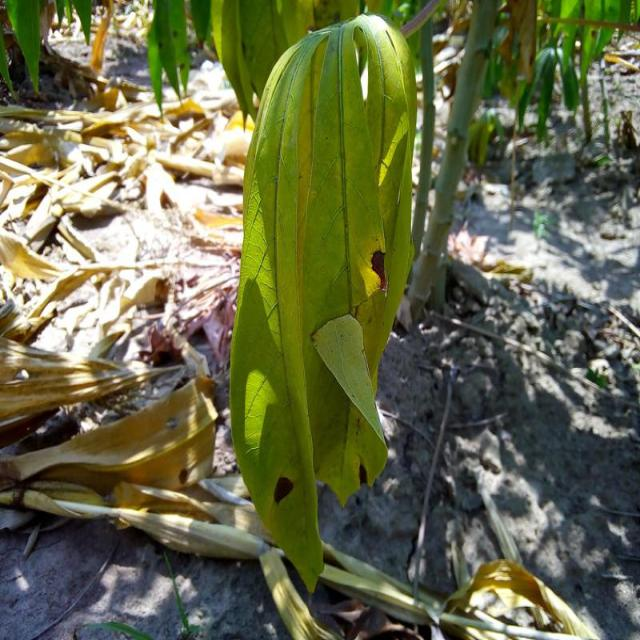cassava leaf: (228, 12, 419, 593)
